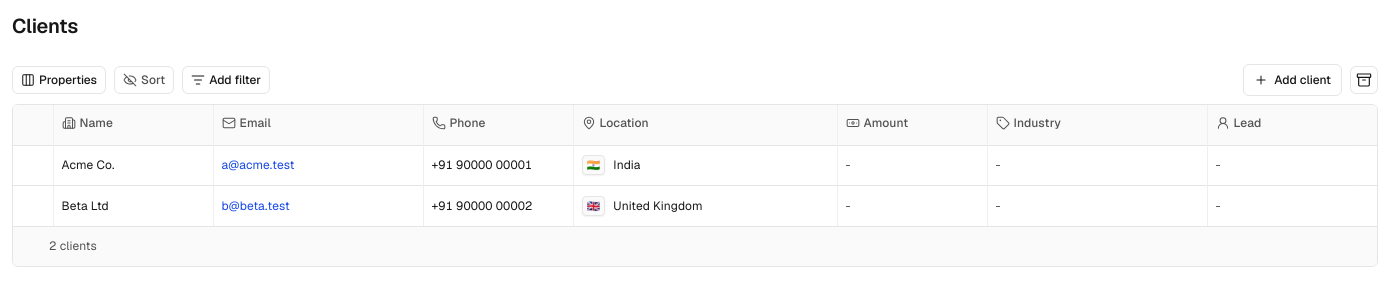
ClientManager › filters the list by country
This screenshot has width=1390, height=284.
Click the button "Add filter".
click(226, 80)  # box [182,66,270,94]
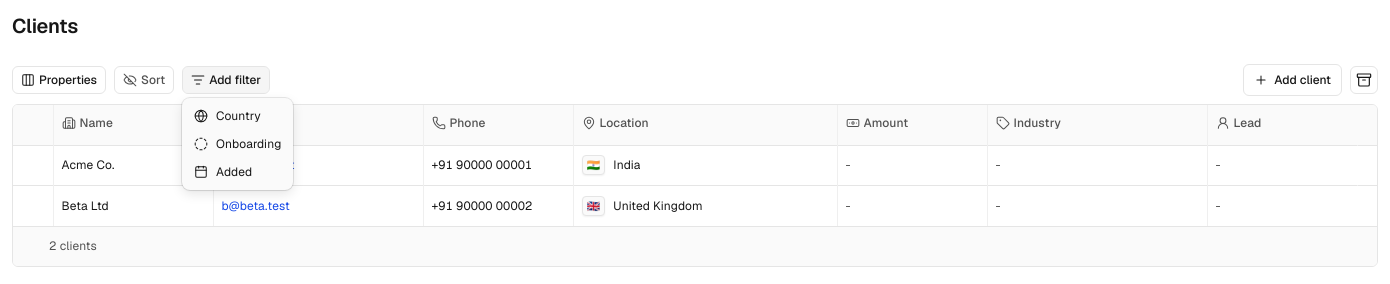
Click the menu item "Country".
click(227, 116)  # box [194,108,261,124]
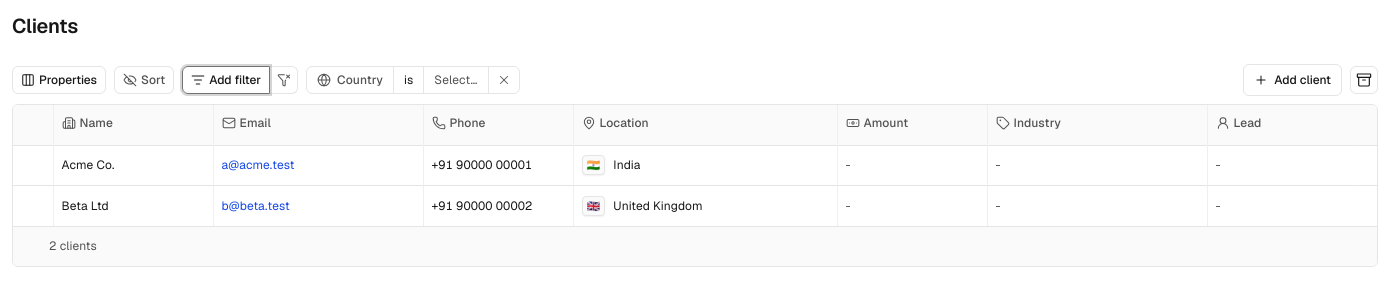
Click the button with aria-label "country value".
click(456, 80)  # box [423,66,488,94]
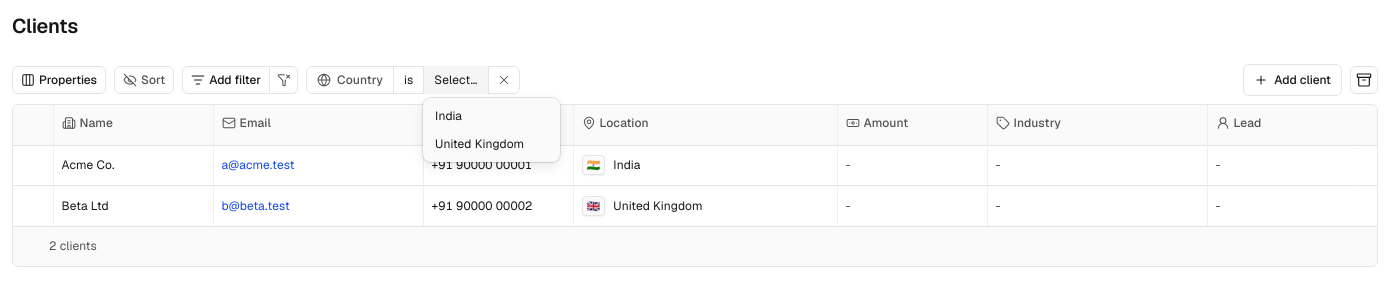
Click the menu item "United Kingdom".
click(480, 144)  # box [435,136,524,152]
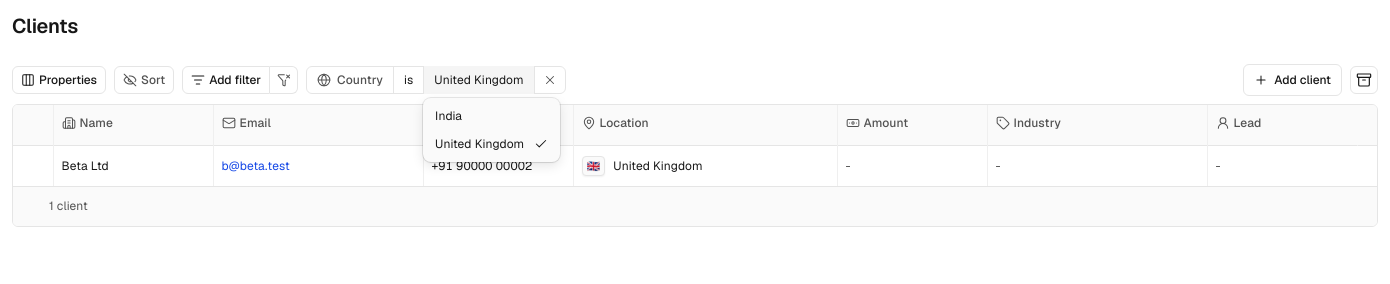
Expected: the link "Beta Ltd" is shown, [62,158,109,174]
Expected: the link "Acme Co." is gone
